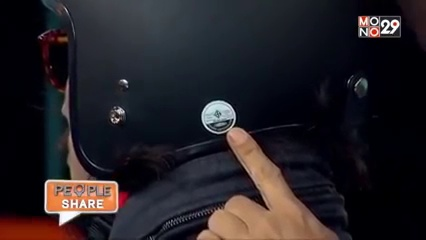helmet: (34, 0, 383, 170)
